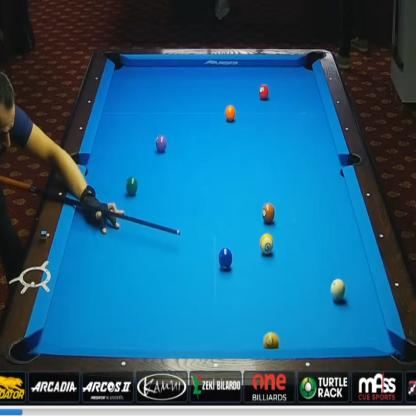Ball: (330, 278, 346, 302), (218, 247, 233, 270), (260, 233, 274, 255), (262, 202, 275, 223), (125, 176, 138, 196), (155, 135, 167, 153), (224, 105, 236, 122), (259, 85, 269, 100)
